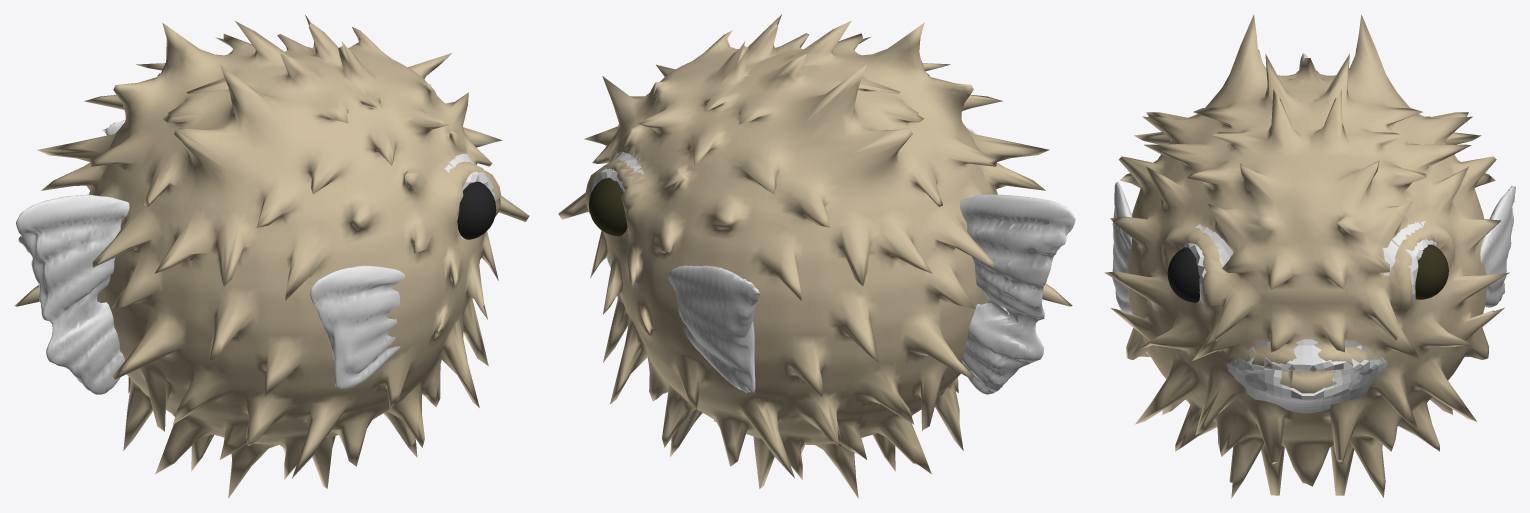
File: baiacu.fbx
The picture shows the model from 3 angles, left to right: view 1: azimuth 30°, elevation 25°; view 2: azimuth 150°, elevation 25°; view 3: azimuth 270°, elevation 25°; orthographic projection. The views are drawn at different scales.
Visible parts, largest first — view 1: Sphere.007, Sphere.004, Sphere.006; view 2: Sphere.007, Sphere.004, Sphere.006, Sphere; view 3: Sphere.007, Sphere, Sphere.004, Sphere.006.
Part boxes in pixels (<box>): Sphere.007: <box>14,15,529,498</box>; Sphere.004: <box>16,120,405,394</box>; Sphere.006: <box>457,181,496,239</box>; Sphere.007: <box>558,14,1072,498</box>; Sphere.004: <box>668,127,1075,394</box>; Sphere.006: <box>589,177,627,236</box>; Sphere: <box>591,151,643,268</box>; Sphere.007: <box>1104,14,1509,498</box>; Sphere: <box>1184,220,1436,413</box>; Sphere.004: <box>1112,53,1515,313</box>; Sphere.006: <box>1167,244,1448,302</box>.
Size of the model in its own units: 276 by 258 by 224.
